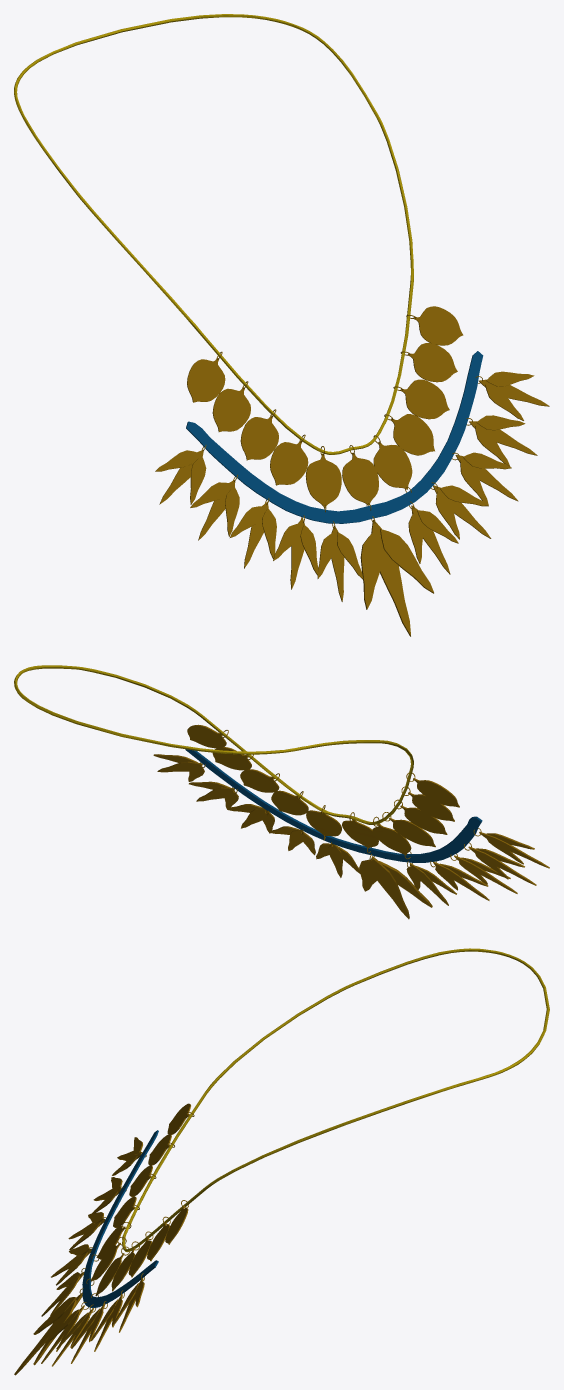
The model's file is cornnecklace.obj.
The picture shows the model from 3 angles, top to bottom: view 1: azimuth 30°, elevation 25°; view 2: azimuth 150°, elevation 25°; view 3: azimuth 270°, elevation 25°; orthographic projection. The views are drawn at different scales.
Visible parts, largest first — view 1: Corn Necklace V4_24073; view 2: Corn Necklace V4_24073; view 3: Corn Necklace V4_24073.
Boxes of the visible parts, bbox=[...] form: Corn Necklace V4_24073: bbox=[14, 14, 549, 636]; Corn Necklace V4_24073: bbox=[14, 665, 549, 919]; Corn Necklace V4_24073: bbox=[14, 948, 549, 1375].
Size of the model in its own units: 0.0702 by 0.068 by 0.09.
